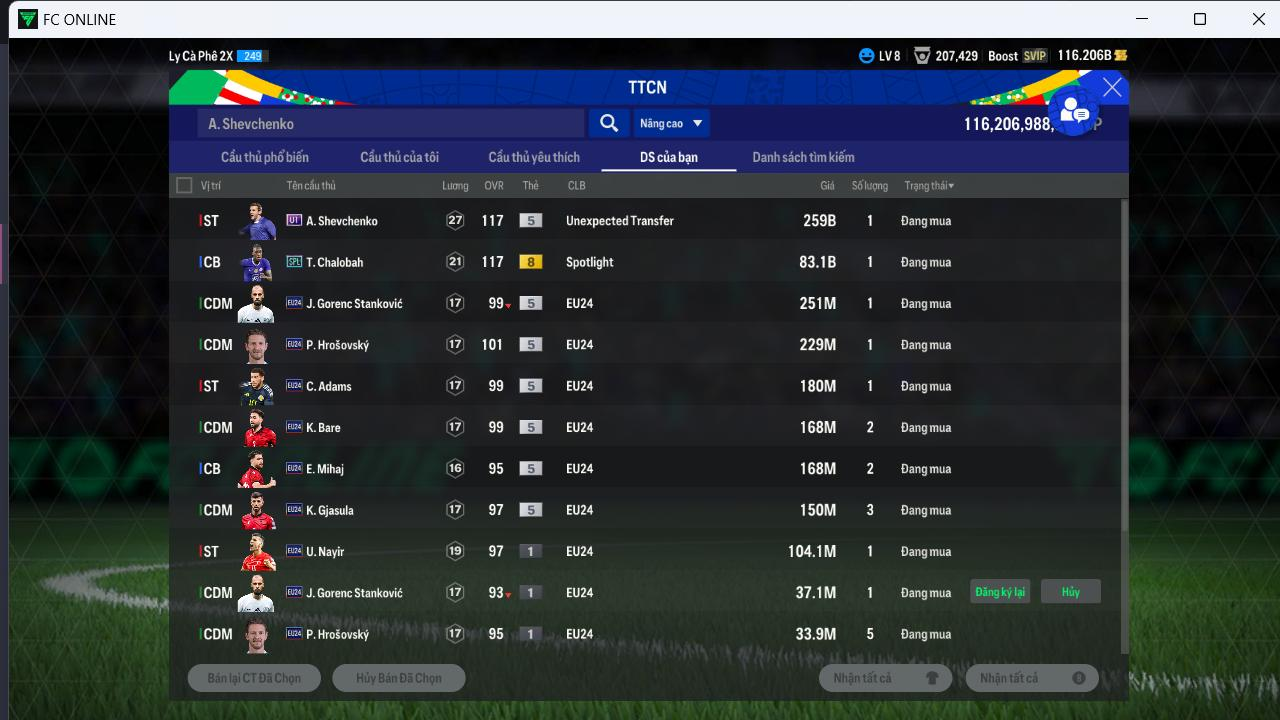previous: (782, 206, 844, 233)
